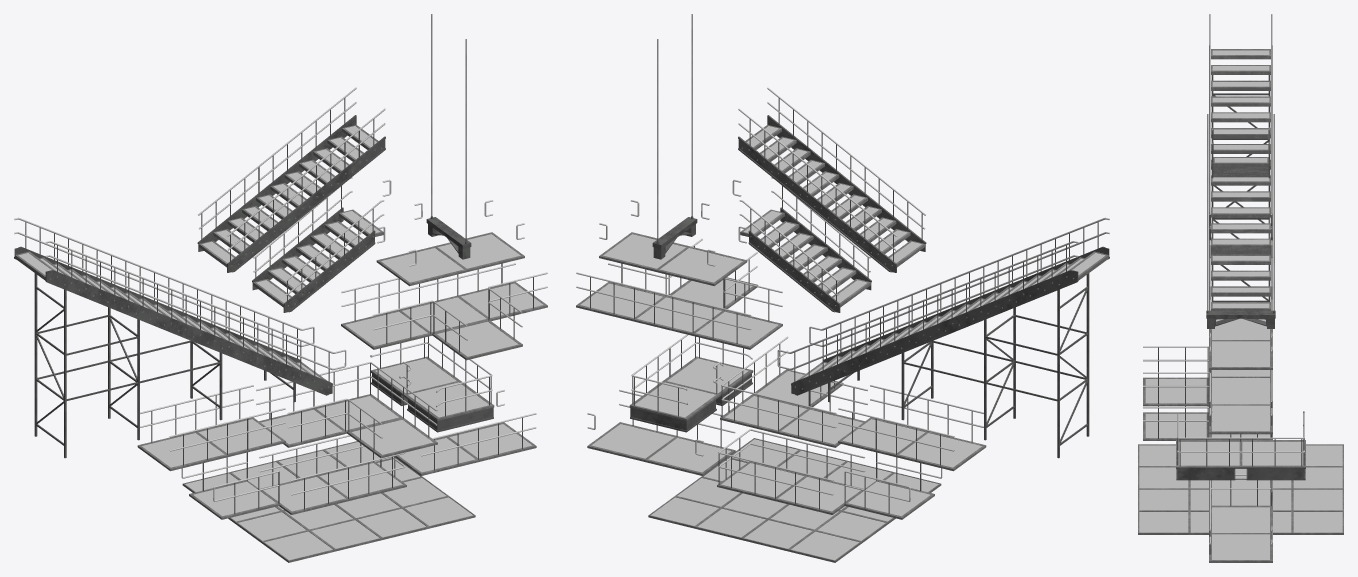
The model's file is CatwalkPKG.fbx.
3 views of the same model, side by side, from view 1: azimuth 30°, elevation 25°; view 2: azimuth 150°, elevation 25°; view 3: azimuth 270°, elevation 25° (orthographic). The views are drawn at different scales.
Parts seen in each view (by area): view 1: stairs_c.mo, SM_Catwalk_Platform.mo, stairs_d.mo, SM_Catwalk_T.mo, SM_Catwalk_Corner.mo, stairs_d_short.mo, stairs_d_platform.mo, SM_Catwalk_Straight.mo, SM_Catwalk_EndClosed.mo, SM_Catwalk_OpenHalf.mo, SM_Catwalk_OpenFull.mo, SM_Catwalk_EndOpen.mo (+1 smaller); view 2: stairs_c.mo, SM_Catwalk_Platform.mo, stairs_d.mo, SM_Catwalk_T.mo, stairs_d_short.mo, SM_Catwalk_Corner.mo, stairs_d_platform.mo, SM_Catwalk_EndClosed.mo, SM_Catwalk_Straight.mo, SM_Catwalk_OpenHalf.mo, SM_Catwalk_OpenFull.mo, SM_Catwalk_EndOpen.mo (+1 smaller); view 3: stairs_c.mo, SM_Catwalk_Platform.mo, SM_Catwalk_T.mo, stairs_d_platform.mo, SM_Catwalk_OpenHalf.mo, SM_Catwalk_OpenFull.mo, SM_Catwalk_Corner.mo, SM_Catwalk_EndClosed.mo, SM_Catwalk_Support.mo, stairs_d.mo, stairs_d_short.mo.
Part boxes in pixels (x1=…): stairs_c.mo: x1=14, y1=217, x2=346, y2=458; SM_Catwalk_Platform.mo: x1=182, y1=441, x2=475, y2=562; stairs_d.mo: x1=197, y1=87, x2=385, y2=272; SM_Catwalk_T.mo: x1=341, y1=263, x2=547, y2=360; SM_Catwalk_Corner.mo: x1=256, y1=362, x2=437, y2=458; stairs_d_short.mo: x1=252, y1=177, x2=384, y2=312; stairs_d_platform.mo: x1=370, y1=336, x2=494, y2=432; SM_Catwalk_Straight.mo: x1=137, y1=385, x2=285, y2=471; SM_Catwalk_EndClosed.mo: x1=258, y1=435, x2=406, y2=514; SM_Catwalk_OpenHalf.mo: x1=395, y1=390, x2=536, y2=475; SM_Catwalk_OpenFull.mo: x1=376, y1=200, x2=524, y2=286; SM_Catwalk_EndOpen.mo: x1=181, y1=452, x2=279, y2=519; stairs_c.mo: x1=777, y1=217, x2=1109, y2=458; SM_Catwalk_Platform.mo: x1=648, y1=438, x2=941, y2=562; stairs_d.mo: x1=738, y1=87, x2=926, y2=272; SM_Catwalk_T.mo: x1=576, y1=238, x2=782, y2=349; stairs_d_short.mo: x1=739, y1=177, x2=871, y2=312; SM_Catwalk_Corner.mo: x1=720, y1=336, x2=867, y2=447; stairs_d_platform.mo: x1=629, y1=334, x2=753, y2=432; SM_Catwalk_EndClosed.mo: x1=717, y1=429, x2=865, y2=514; SM_Catwalk_Straight.mo: x1=838, y1=385, x2=986, y2=471; SM_Catwalk_OpenHalf.mo: x1=587, y1=390, x2=735, y2=475; SM_Catwalk_OpenFull.mo: x1=599, y1=200, x2=747, y2=286; SM_Catwalk_EndOpen.mo: x1=844, y1=452, x2=942, y2=519; stairs_c.mo: x1=1209, y1=14, x2=1272, y2=310; SM_Catwalk_Platform.mo: x1=1138, y1=444, x2=1343, y2=534; SM_Catwalk_T.mo: x1=1143, y1=346, x2=1272, y2=434; stairs_d_platform.mo: x1=1176, y1=411, x2=1305, y2=480; SM_Catwalk_OpenHalf.mo: x1=1209, y1=480, x2=1272, y2=562; SM_Catwalk_OpenFull.mo: x1=1209, y1=281, x2=1272, y2=369; SM_Catwalk_Corner.mo: x1=1143, y1=406, x2=1272, y2=440; SM_Catwalk_EndClosed.mo: x1=1209, y1=469, x2=1272, y2=506; SM_Catwalk_Support.mo: x1=1206, y1=114, x2=1275, y2=328; stairs_d.mo: x1=1211, y1=127, x2=1270, y2=178; stairs_d_short.mo: x1=1209, y1=212, x2=1272, y2=255.
Size of the model in its own units: 1367 by 1161 by 500.
